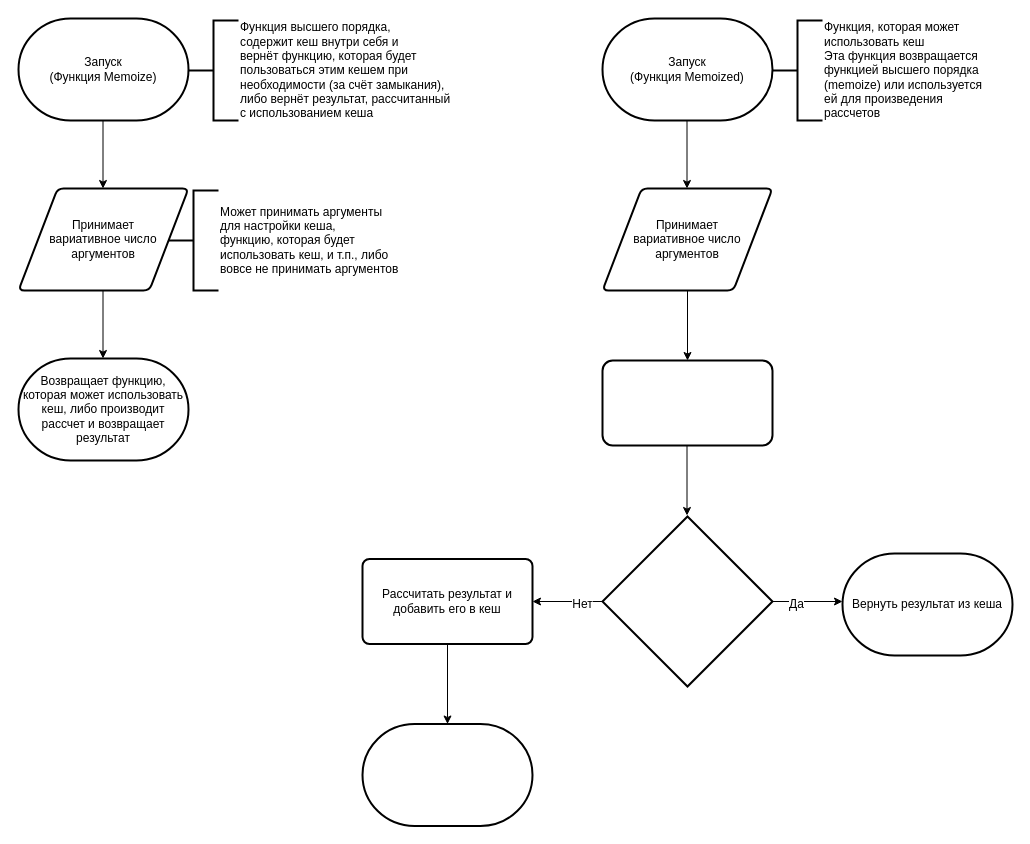
Some shapes in this 1030 by 844 pixel diagram are drawn without their labels. Here are the shapes that lost their labels. From the top down, the box of each, then its label:
(601, 359, 773, 446): Функция производит рассчет при помощи кеша
(601, 515, 773, 687): Есть ли рассчитанный результат с такими аргументами в кеше?
(361, 722, 533, 826): Вернуть результат
